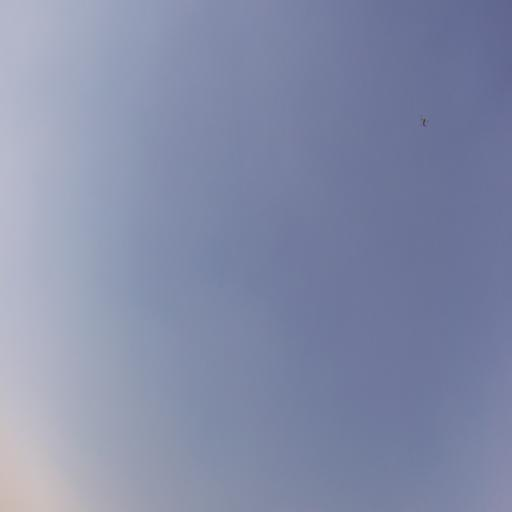drones: (418, 113, 429, 130)
